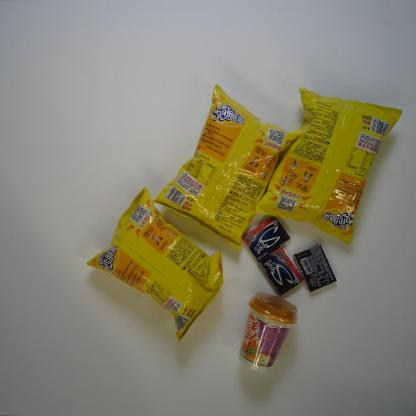Gum: (241, 215, 292, 262), (258, 247, 305, 298), (294, 242, 338, 292)
Instant Drink: (237, 292, 299, 373)
Puffed Food: (151, 82, 303, 252), (254, 87, 404, 246), (84, 186, 224, 343)
